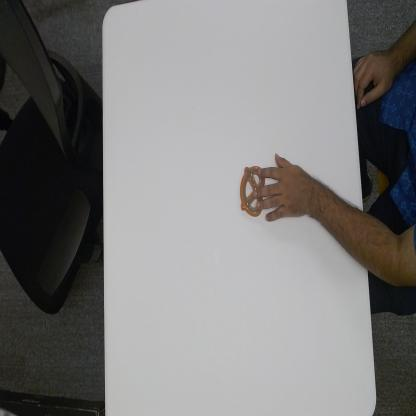Arm: (310, 162, 382, 275)
Hand: (255, 149, 309, 223)
Pretzel: (238, 162, 264, 218)
